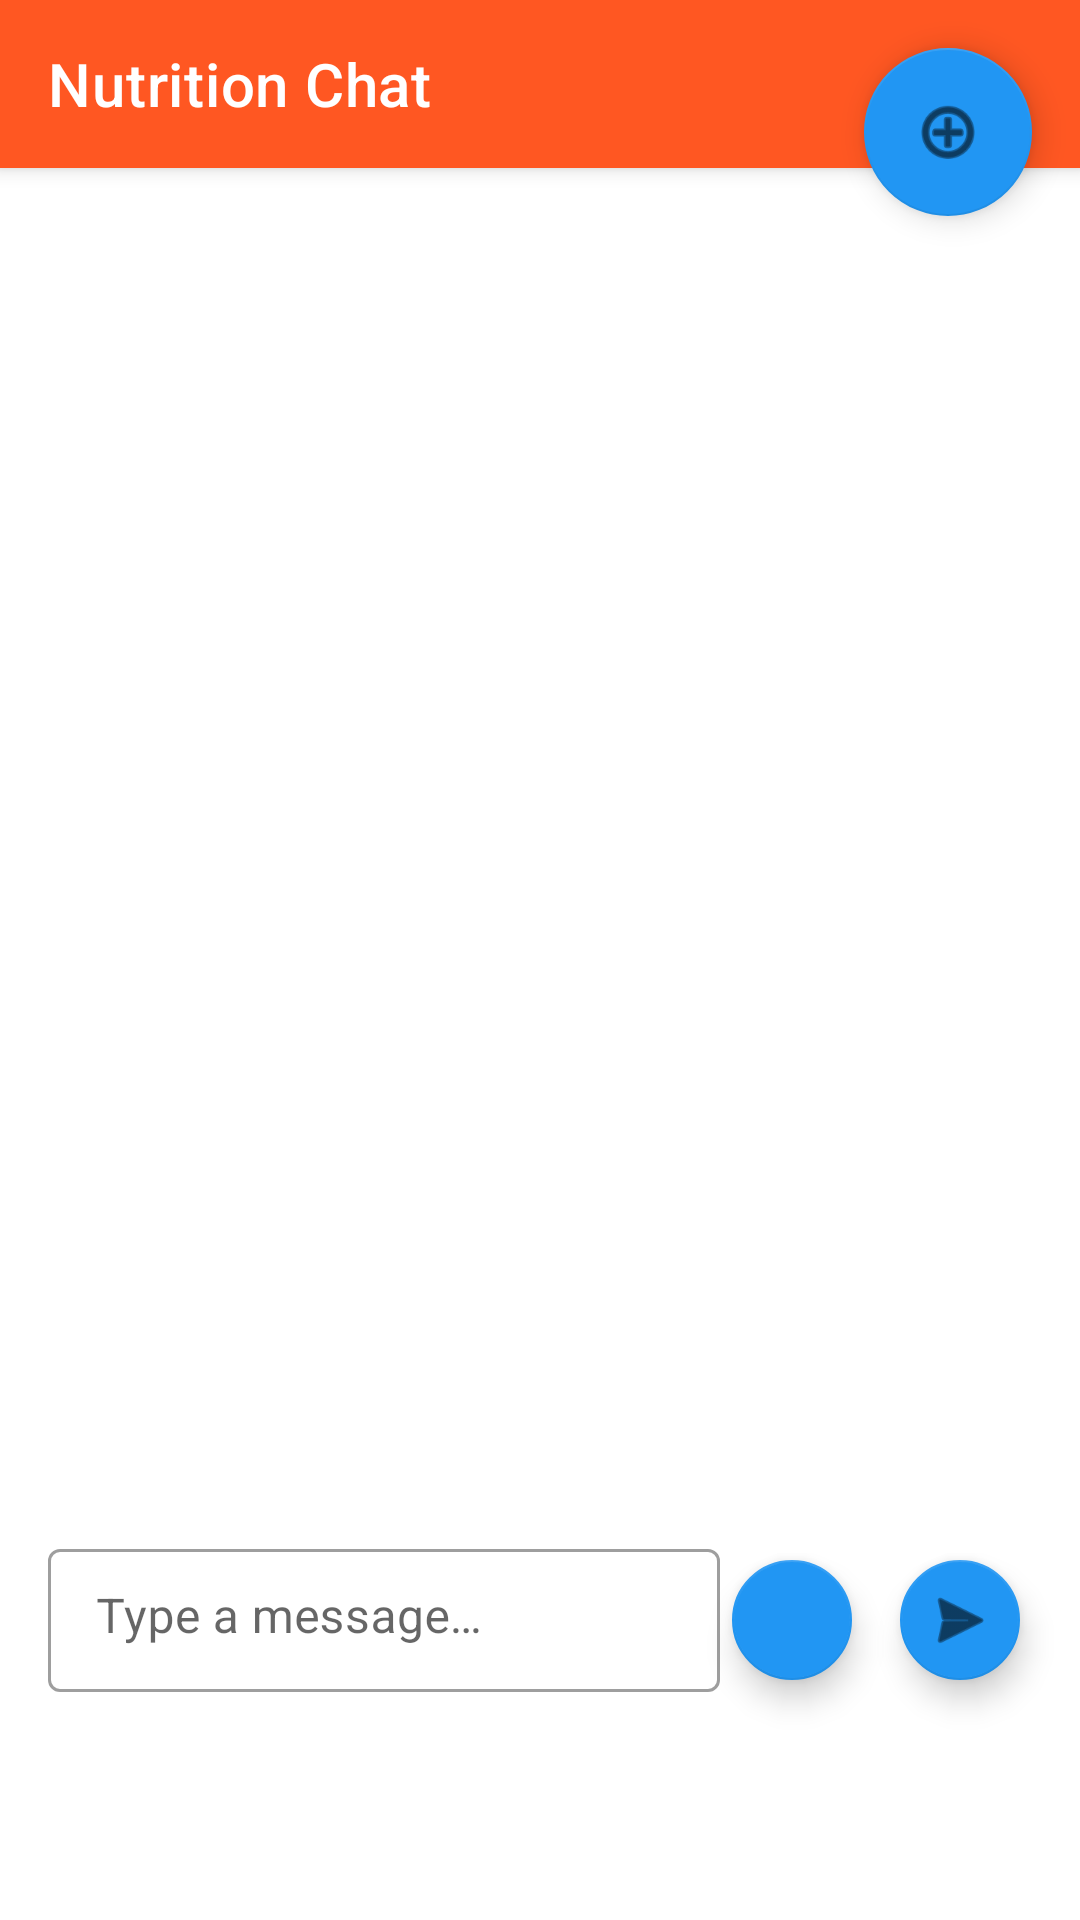

Where to tap for icons on this 1080x1920 app screen, as point (x, y):
New Chat: point (948, 132)
send: point (961, 1626)
